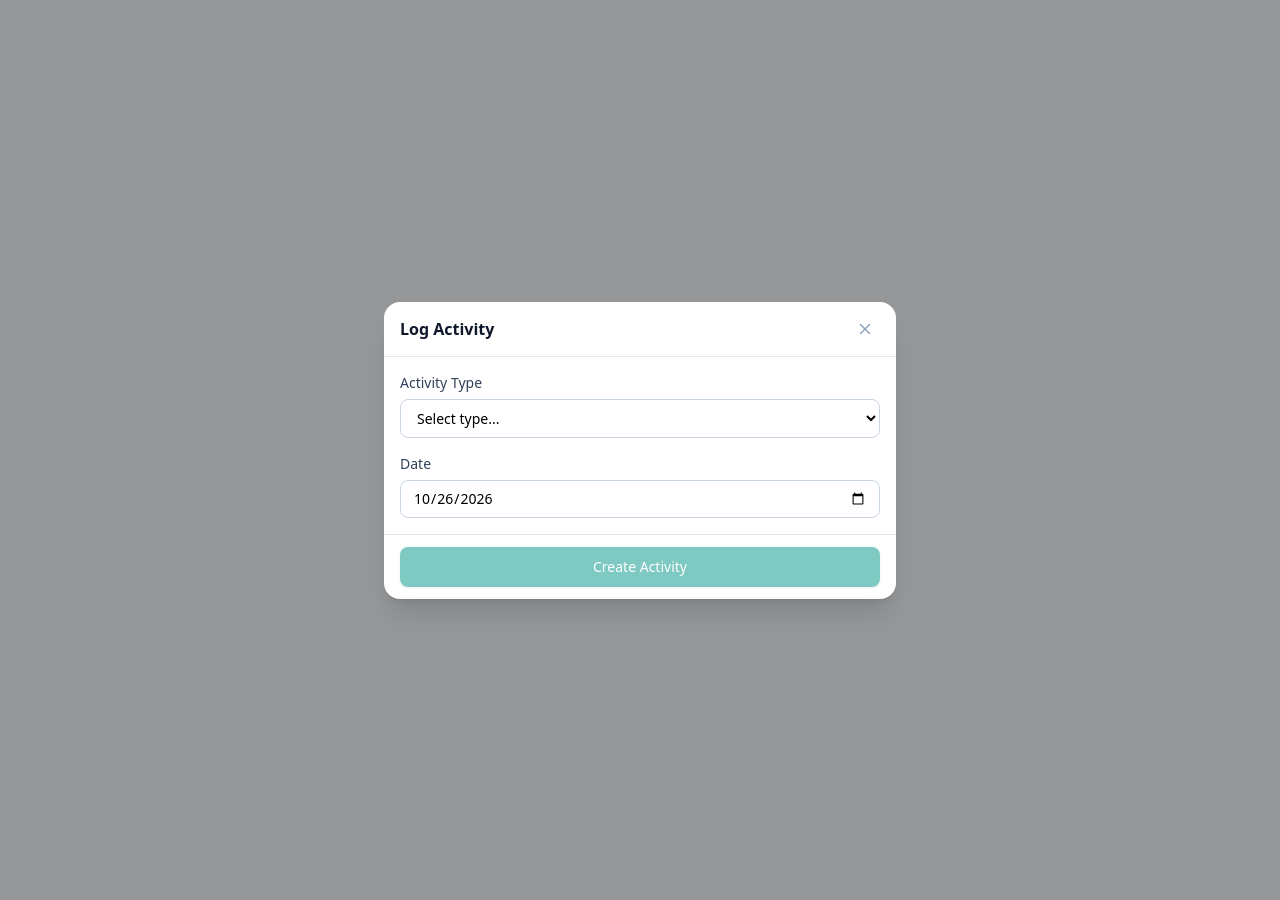
Test: CreateActivityModal › enables Create button for non-field type with date selected
The width and height of the screenshot is (1280, 900).
Select "Office Work" in the dropdown labelled "Activity Type" at (640, 418), box [400,398,880,438]
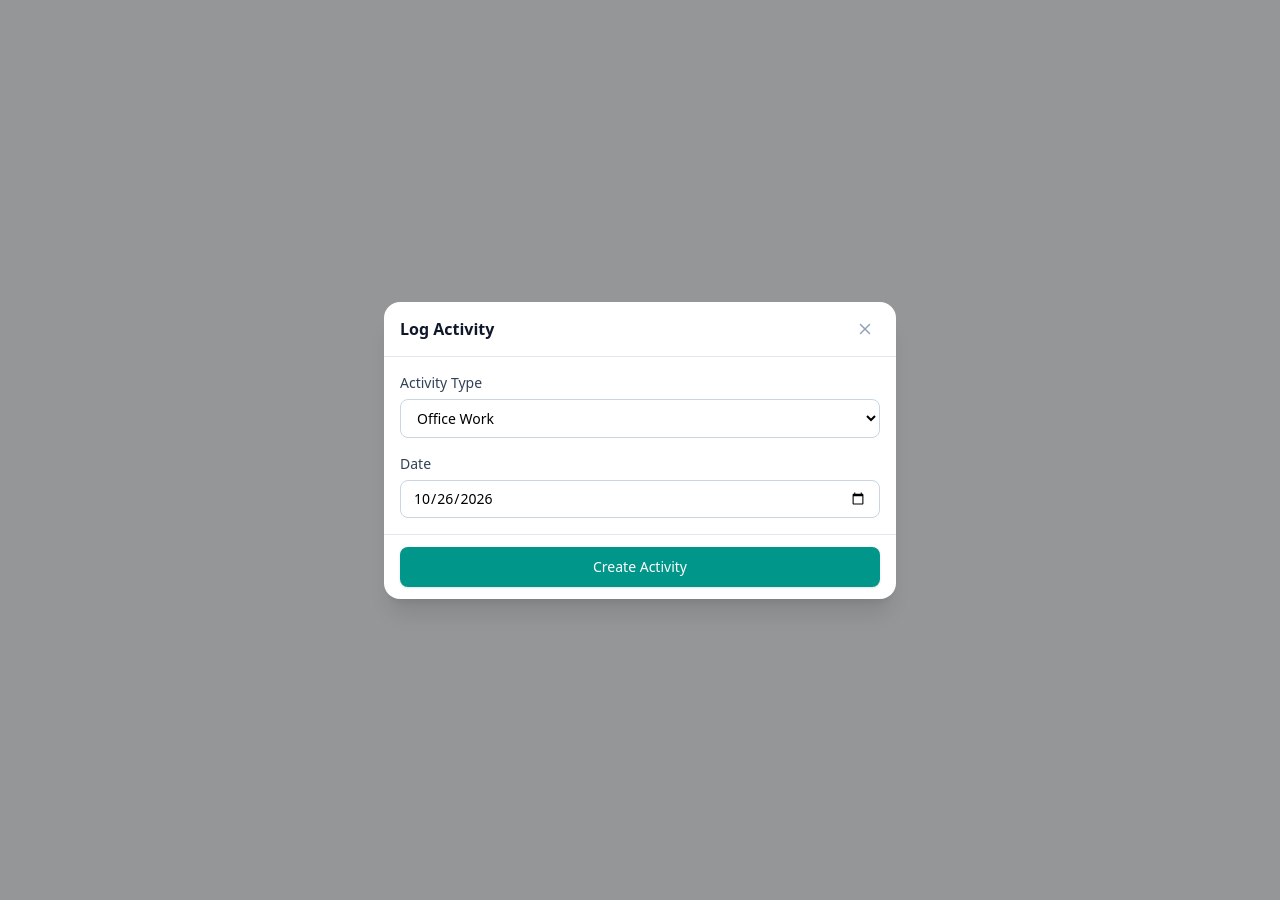
Expected: the button "Create Activity" is enabled, [400,546,880,586]
